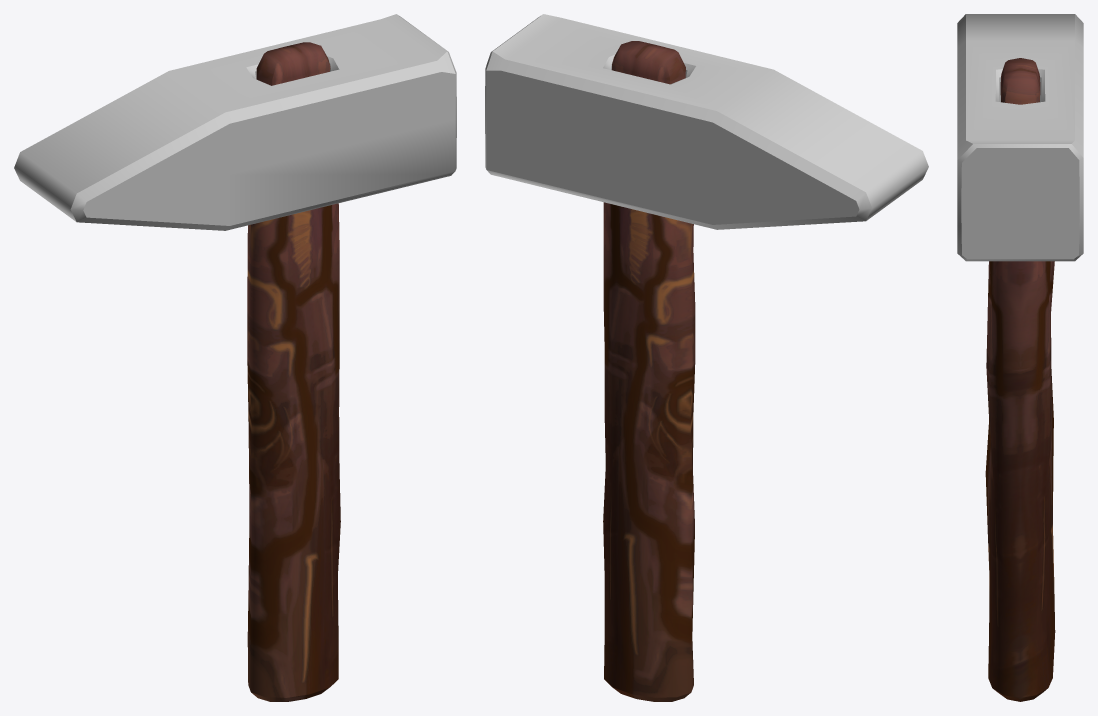
Rendered from hammer.fbx.
3 views of the same model, side by side, from view 1: azimuth 30°, elevation 25°; view 2: azimuth 150°, elevation 25°; view 3: azimuth 270°, elevation 25° (orthographic). The views are drawn at different scales.
Parts seen in each view (by area): view 1: Boole, Cylinder; view 2: Boole, Cylinder; view 3: Cylinder, Boole.
Part boxes in pixels (x1,y1,x2,y2): Boole: (14,14,456,230); Cylinder: (247,42,340,701); Boole: (485,14,928,229); Cylinder: (603,41,695,701); Cylinder: (985,58,1055,701); Boole: (957,14,1083,261).
Bounding box in the file's own units: 339 × 541 × 100.
Materials: 2 (1 with a texture image).
